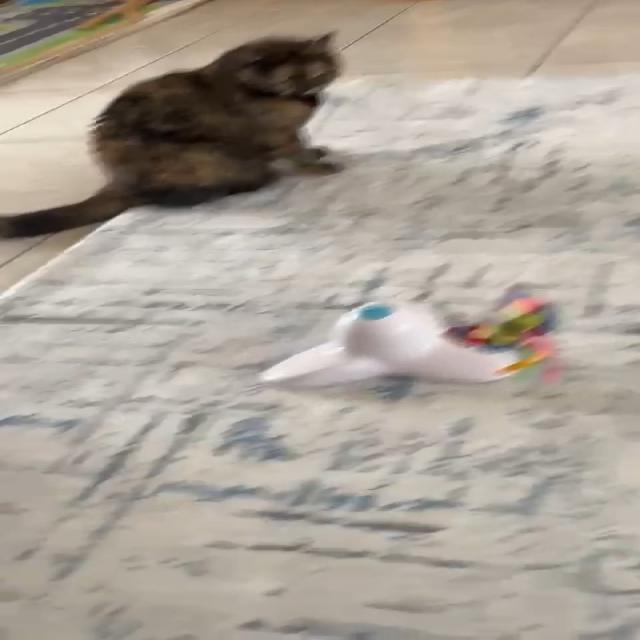authorized: (0, 28, 345, 239)
